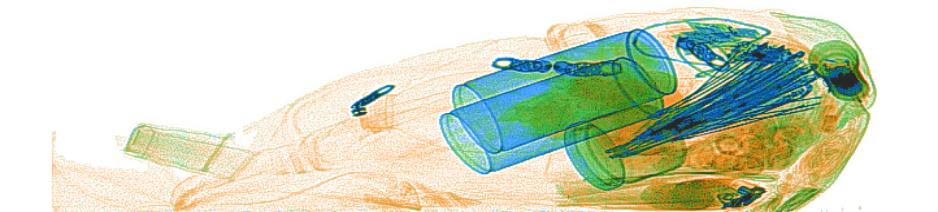battery: (829, 60, 861, 95)
